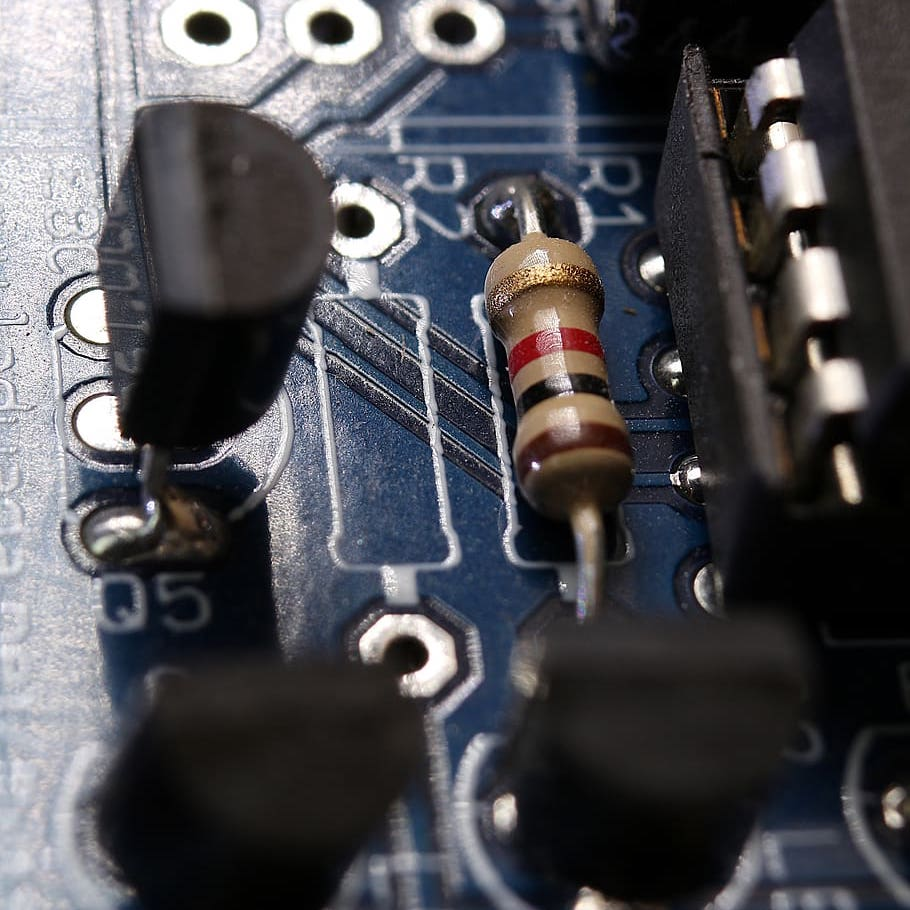Resistor: (482, 235, 635, 521)
